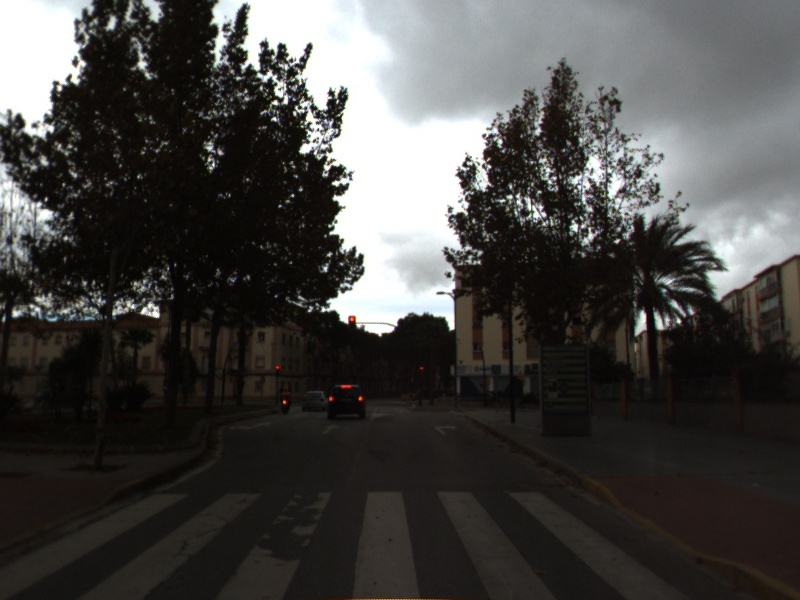RIGHT: (431, 422, 460, 437)
STRAIGHT: (318, 422, 342, 437)
STRAIGHT_LEFT: (226, 419, 274, 432)
